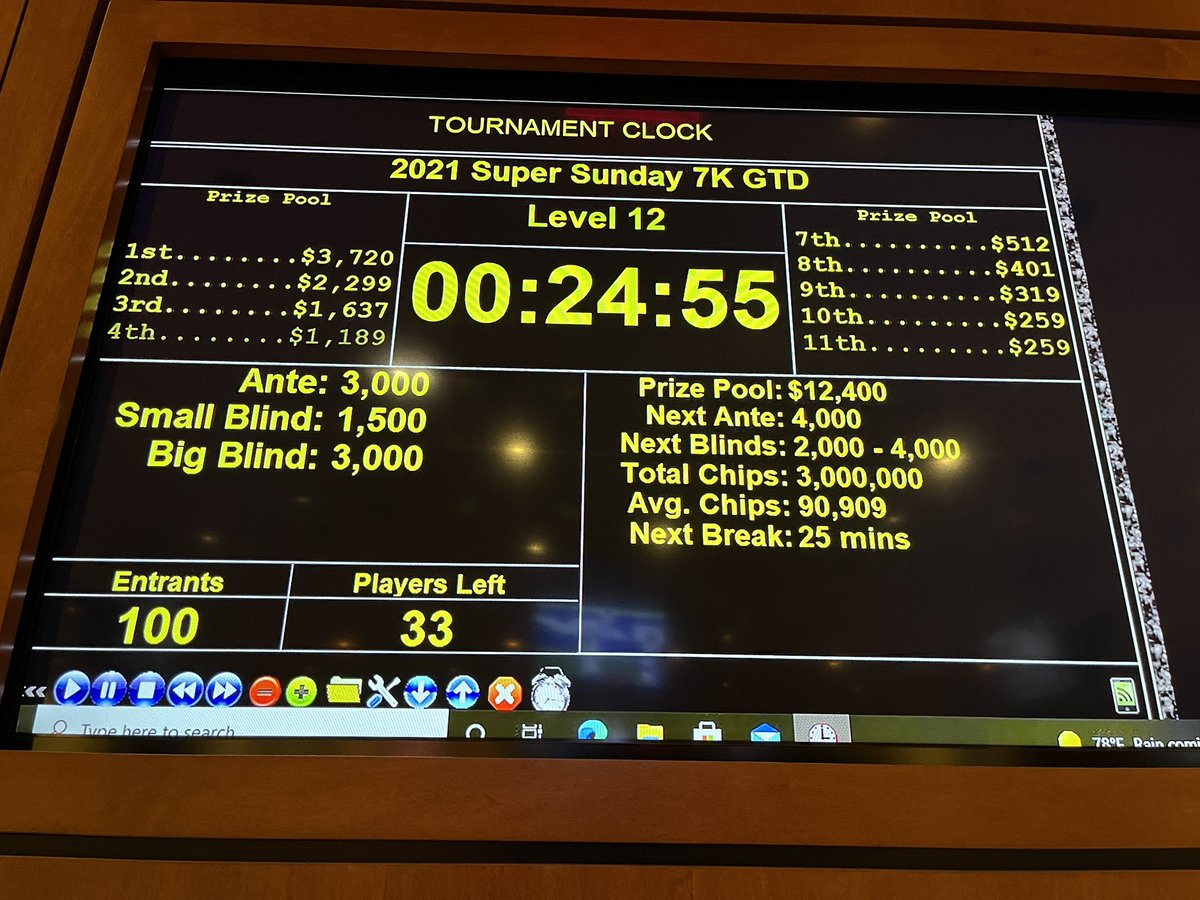PlayersLeft: (280, 555, 584, 655)
Remaining: (773, 196, 1086, 384), (112, 185, 412, 370)
TournamentClock: (35, 152, 1110, 662)
